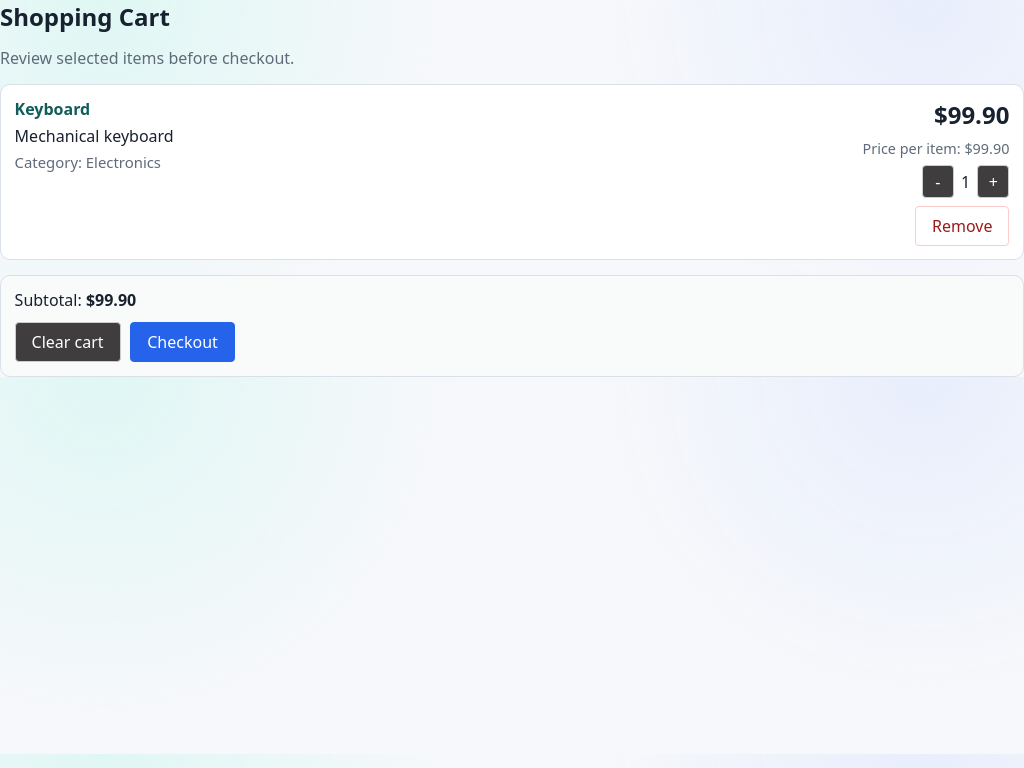
Test: CartPage › clears the cart and shows the empty state
Click the button "Clear cart". click: (68, 342)
box: [15,322,121,362]
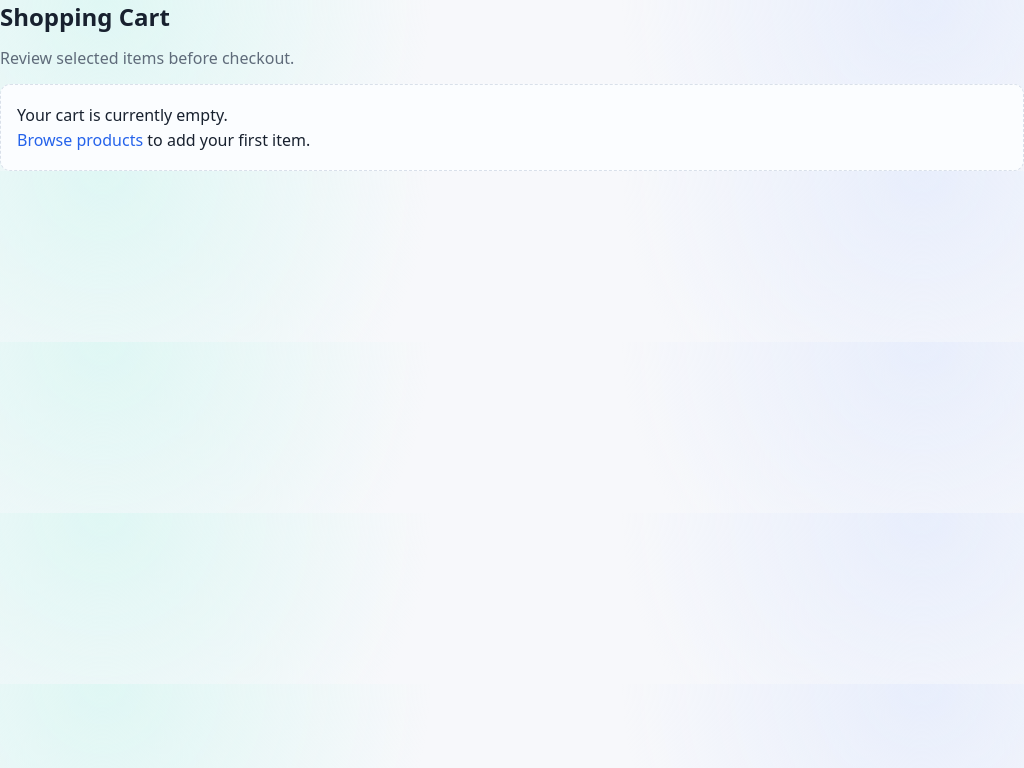
Result: the text "Your cart is currently empty." is shown at [17,104,228,126]
